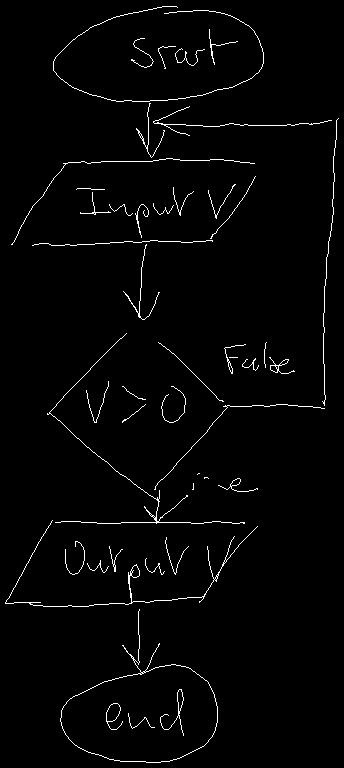arrow: (153, 106, 338, 408), (123, 244, 159, 319), (122, 609, 159, 672), (136, 103, 164, 157), (144, 490, 187, 523)
data: (5, 520, 257, 606), (11, 158, 255, 245)
decision: (47, 333, 227, 501)
terminator: (53, 6, 263, 101), (60, 664, 217, 762)
text: (65, 536, 234, 603), (76, 184, 235, 237), (131, 29, 237, 68), (86, 381, 185, 422), (106, 689, 183, 735), (224, 342, 294, 373), (192, 473, 257, 491)
